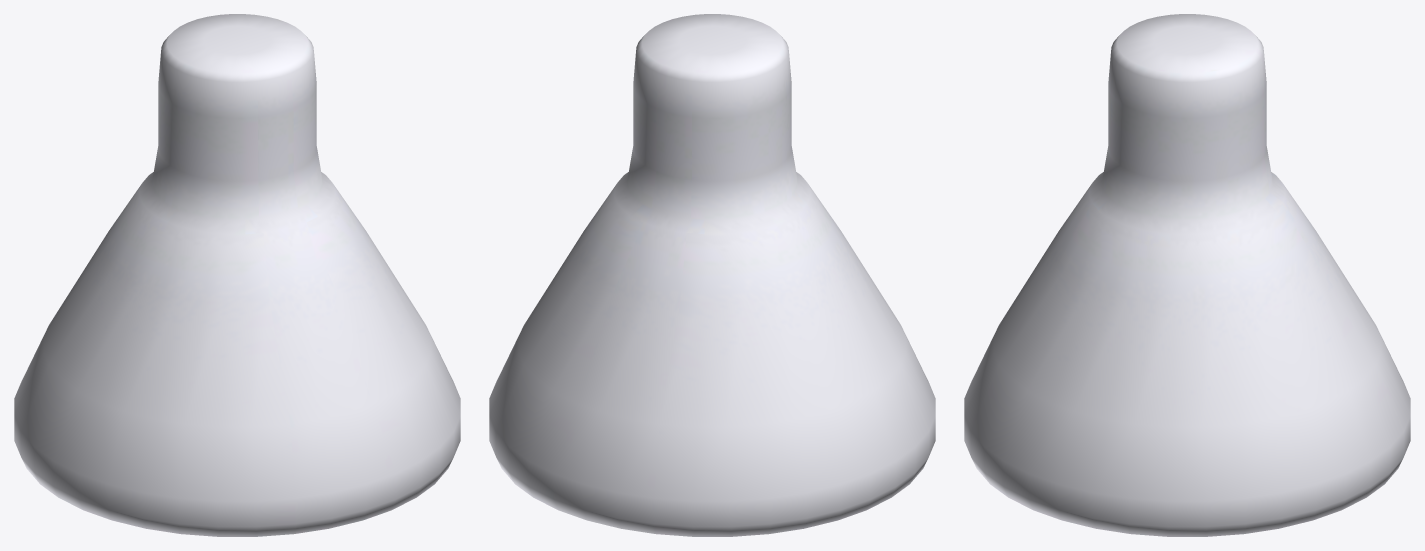
File: Light.DAE
3 views of the same model, side by side, from view 1: azimuth 30°, elevation 25°; view 2: azimuth 150°, elevation 25°; view 3: azimuth 270°, elevation 25° (orthographic).
Parts seen in each view (by area): view 1: Case_PIVOT; view 2: Case_PIVOT; view 3: Case_PIVOT.
Boxes of the visible parts, x1,y1,x2,y2 form: Case_PIVOT: [14, 14, 460, 536]; Case_PIVOT: [489, 14, 935, 536]; Case_PIVOT: [964, 14, 1410, 536].
Size of the model in its own units: 0.9999 by 0.9998 by 1.
Materials: 1 (1 with a texture image).
